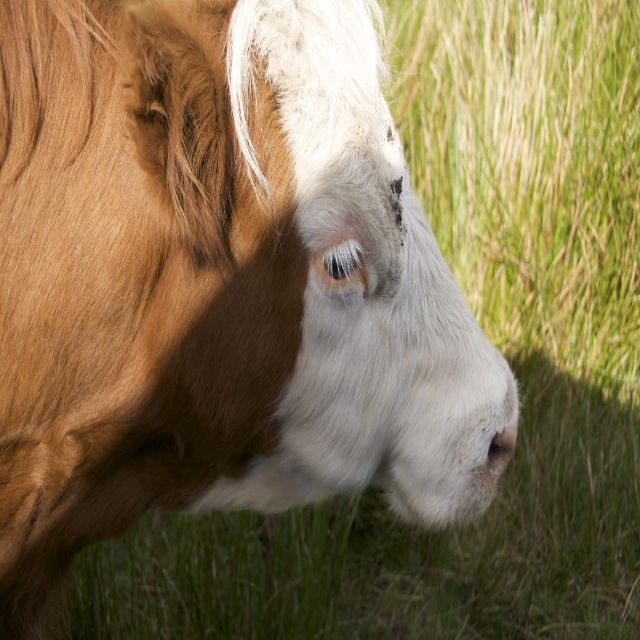Cattle: (0, 0, 556, 590)
